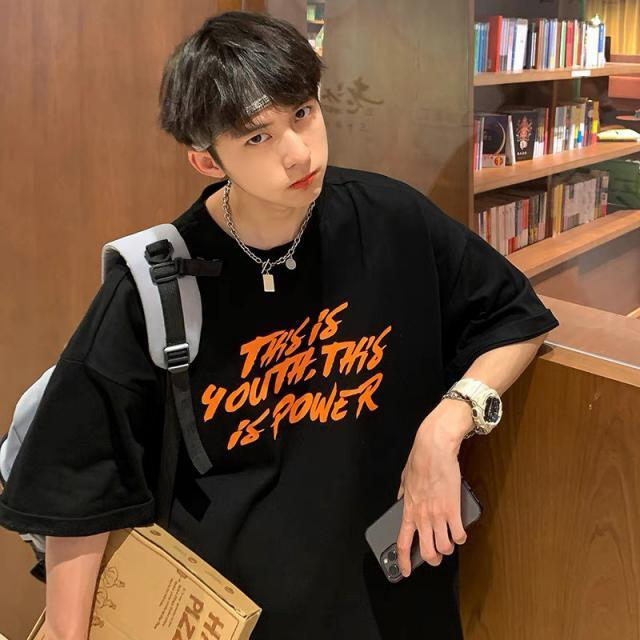Shirt: (0, 160, 568, 639)
